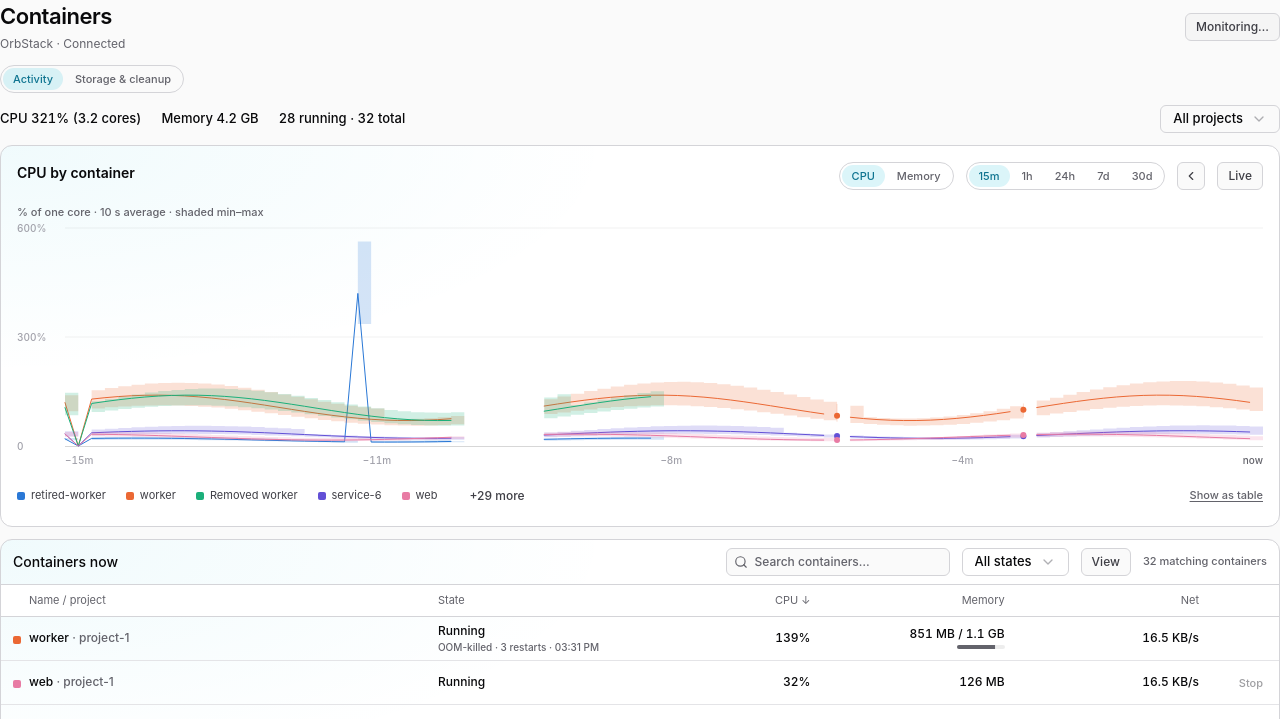
Test: does not scan storage on Activity or live ticks; storage entry fetches once and leaves nothing selected
Click the radio button labelled "Storage & cleanup".
click(123, 79)  # box top-left (65, 68), bottom-right (181, 90)
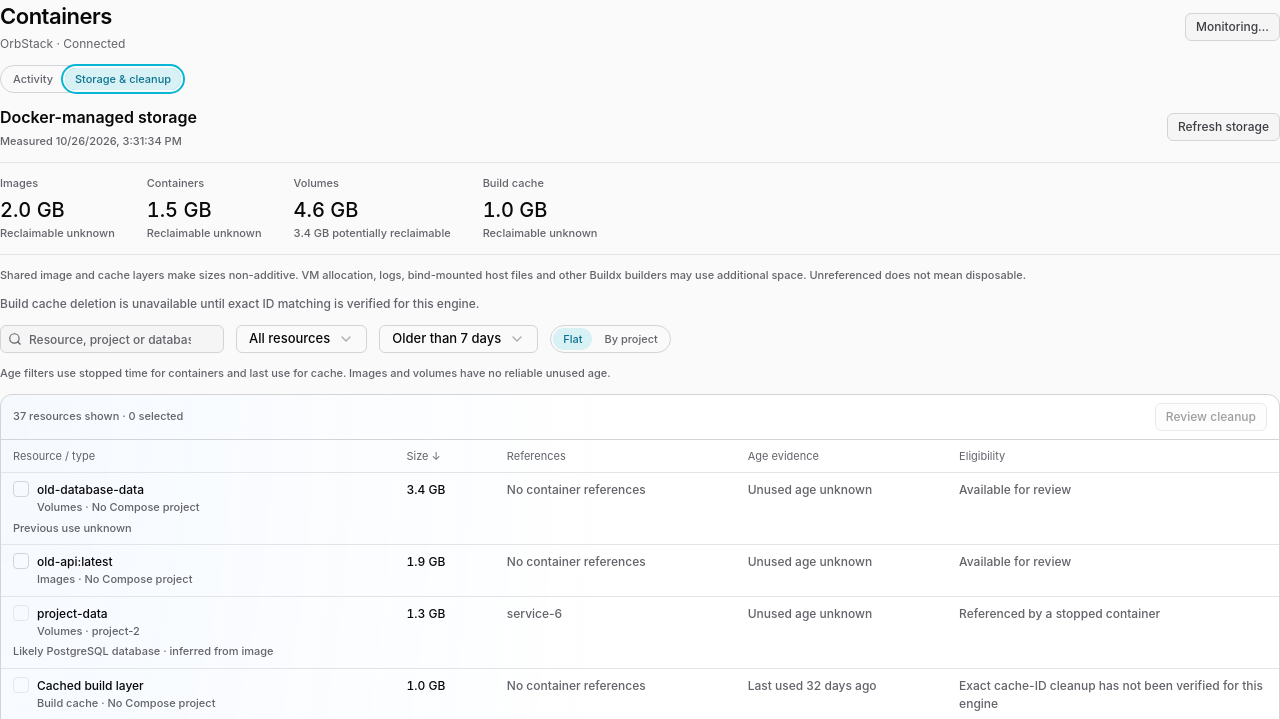
Check: the button "Review cleanup" is disabled, box top-left (1155, 402), bottom-right (1267, 430)
